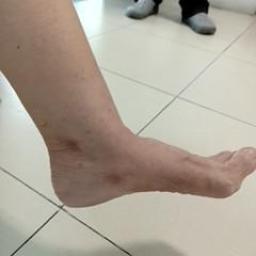Medial View -Left Foot-: (22, 90, 255, 220)
